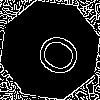O: (25, 25, 84, 82)
